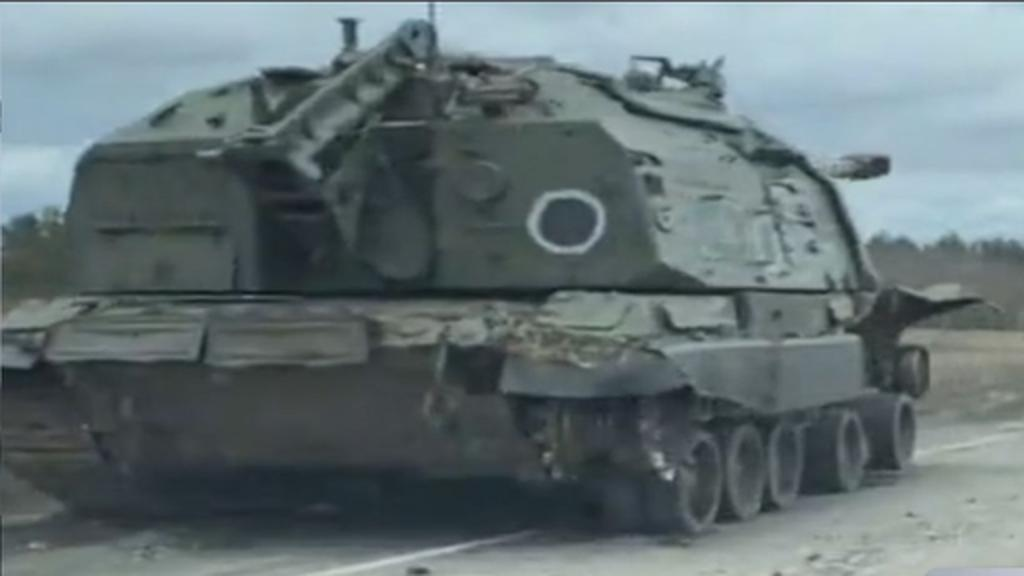ART: (0, 20, 934, 548)
